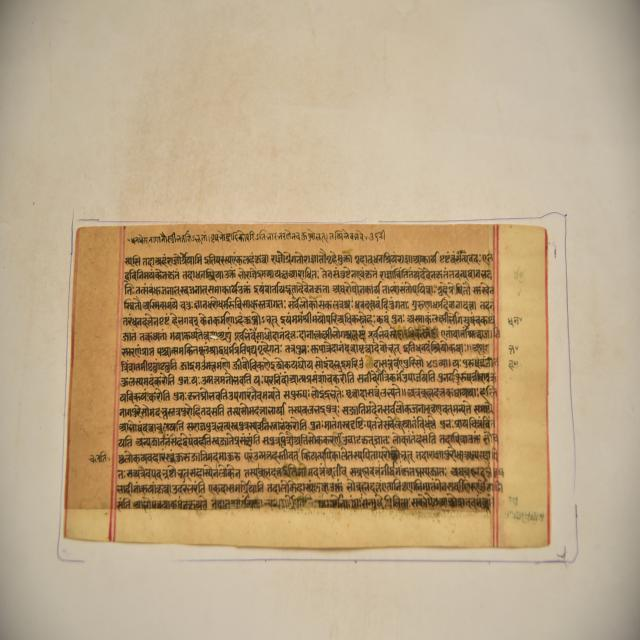text_paragraph: (61, 223, 550, 544)
